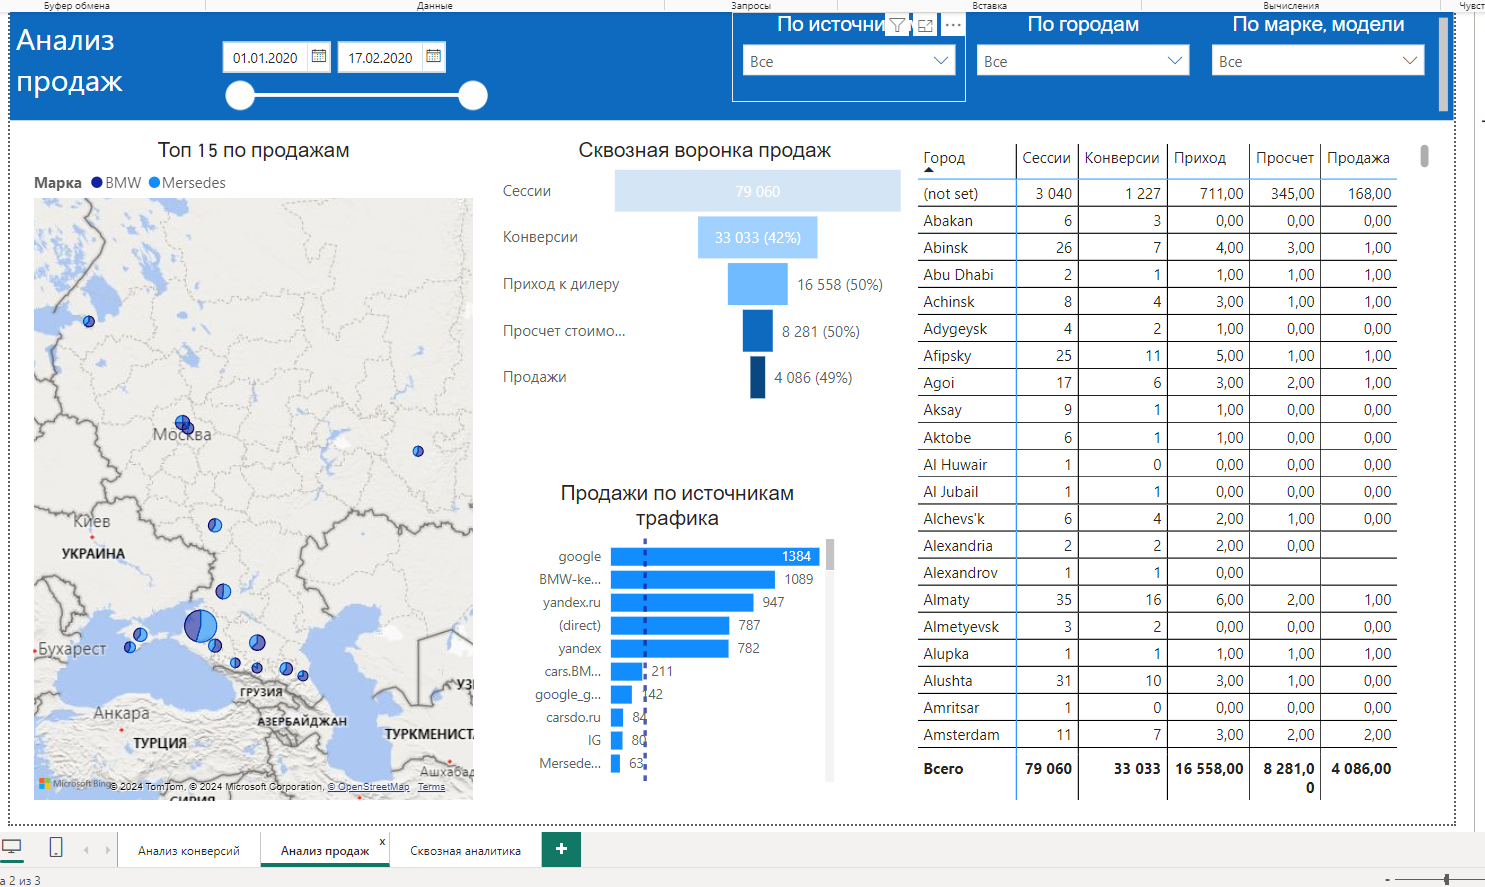

The dashboard page shown, as its layout file describes it:
{"tool":"powerbi","page":{"name":" Анализ продаж","canvas":[1280,720],"ordinal":1},"visuals":[{"type":"textbox","box":[0,0,1280,96],"z":0},{"type":"slicer","title":"По марке, модели","fields":{"Values":["Маркетинговые данные.Марка","Маркетинговые данные.Модель"]},"box":[1056,0,208,80],"z":1000},{"type":"slicer","title":"По городам","fields":{"Values":["Маркетинговые данные.City"]},"box":[848,0,208,80],"z":2000},{"type":"slicer","title":"По источникам","fields":{"Values":["Маркетинговые данные.Medium","Маркетинговые данные.Source"]},"box":[640,0,208,80],"z":3000},{"type":"slicer","fields":{"Values":["Маркетинговые данные.Date"]},"box":[176,16,256,80],"z":4000},{"type":"funnel","title":"Сквозная воронка продаж","fields":{"Y":["Sum(Маркетинговые данные.Sessions)","Sum(Маркетинговые данные.Конверсия)","Sum(Данные из CRM.Приход к диллеру)","Sum(Данные из CRM.Просчет стоимости модели)","Sum(Данные из CRM.Продажа)"]},"box":[432,112,368,240],"z":5000},{"type":"pivotTable","fields":{"Rows":["Маркетинговые данные.Region","Маркетинговые данные.City","Маркетинговые данные.Марка","Маркетинговые данные.Модель"],"Values":["Sum(Маркетинговые данные.Sessions)","Sum(Маркетинговые данные.Конверсия)","Sum(Данные из CRM.Приход к диллеру)","Sum(Данные из CRM.Просчет стоимости модели)","Sum(Данные из CRM.Продажа)"]},"box":[800,112,464,592],"z":6000},{"type":"map","title":"Топ 15 по продажам","fields":{"Category":["Маркетинговые данные.Region"],"Size":["Sum(Данные из CRM.Продажа)"],"Series":["Маркетинговые данные.Марка"]},"box":[16,112,400,592],"z":7000},{"type":"clusteredBarChart","title":"Продажи по источникам трафика","fields":{"Category":["Маркетинговые данные.Source"],"Y":["Sum(Данные из CRM.Продажа)"]},"box":[448,416,288,272],"z":8000}]}

Visuals, with their boxes on the page's 1280x720 design canvas (x1, y1, x2, y2). These are canvas units, not pixel positions in the 1485x887 screenshot, which may show the page scaled, cropped or inside an application window:
textbox: bbox=(0, 0, 1280, 96)
"По марке, модели" slicer: bbox=(1056, 0, 1264, 80)
"По городам" slicer: bbox=(848, 0, 1056, 80)
"По источникам" slicer: bbox=(640, 0, 848, 80)
slicer - Маркетинговые данные.Date: bbox=(176, 16, 432, 96)
"Сквозная воронка продаж" funnel: bbox=(432, 112, 800, 352)
pivotTable - Маркетинговые данные.Region x Маркетинговые данные.City: bbox=(800, 112, 1264, 704)
"Топ 15 по продажам" map: bbox=(16, 112, 416, 704)
"Продажи по источникам трафика" clusteredBarChart: bbox=(448, 416, 736, 688)
